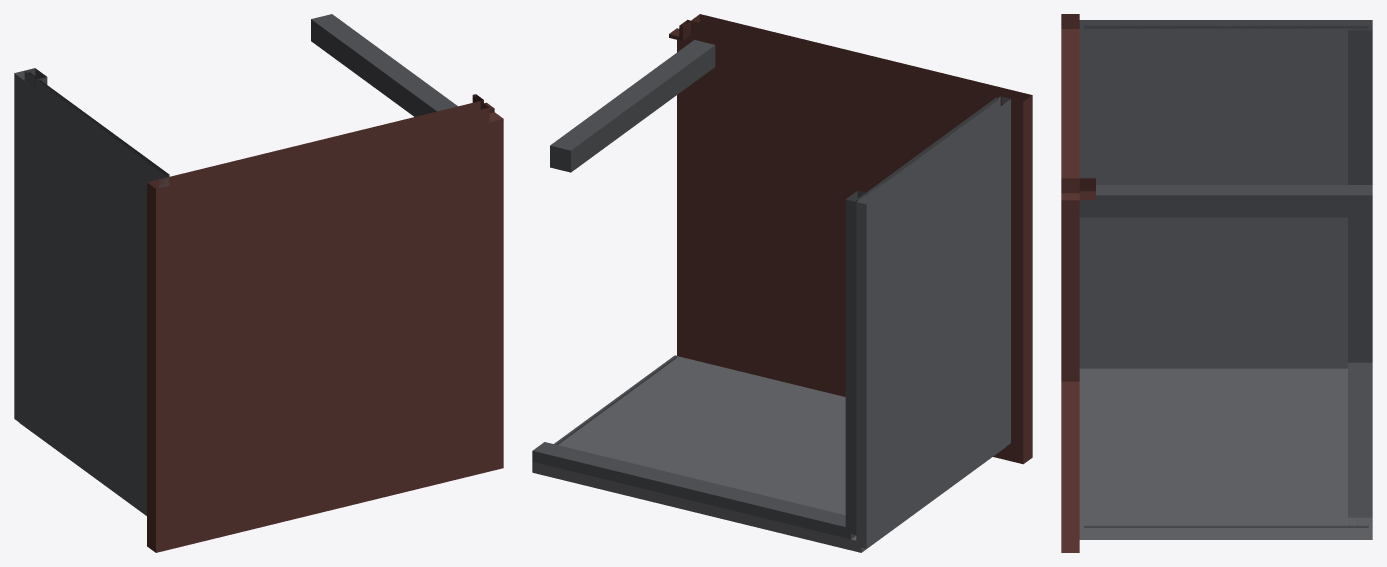
Rendered from section-4.obj.
3 views of the same model, side by side, from view 1: azimuth 30°, elevation 25°; view 2: azimuth 150°, elevation 25°; view 3: azimuth 270°, elevation 25° (orthographic).
Size of the model in its own units: 0.99 by 0.99 by 0.76.
Materials: 1 (1 with a texture image).
